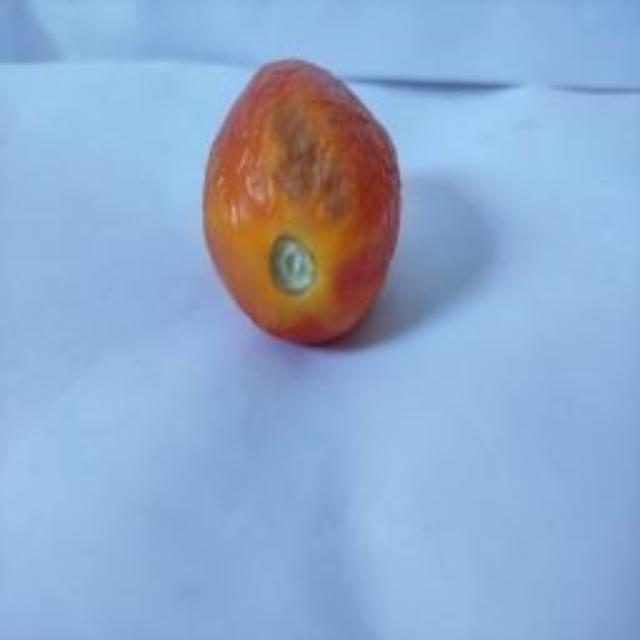defect: (203, 57, 405, 344)
